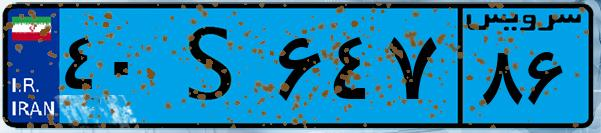0: (110, 28, 158, 98)
4: (330, 28, 385, 110), (57, 26, 110, 100)
6: (270, 28, 330, 110), (525, 38, 570, 115)
7: (385, 28, 445, 110)
8: (475, 38, 525, 113)
S: (158, 12, 270, 120)
